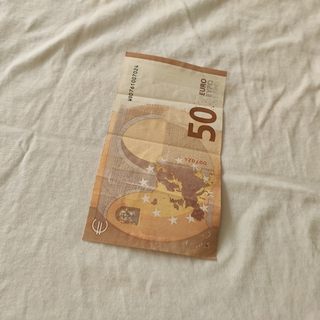50EUROBack: (80, 50, 228, 261)
